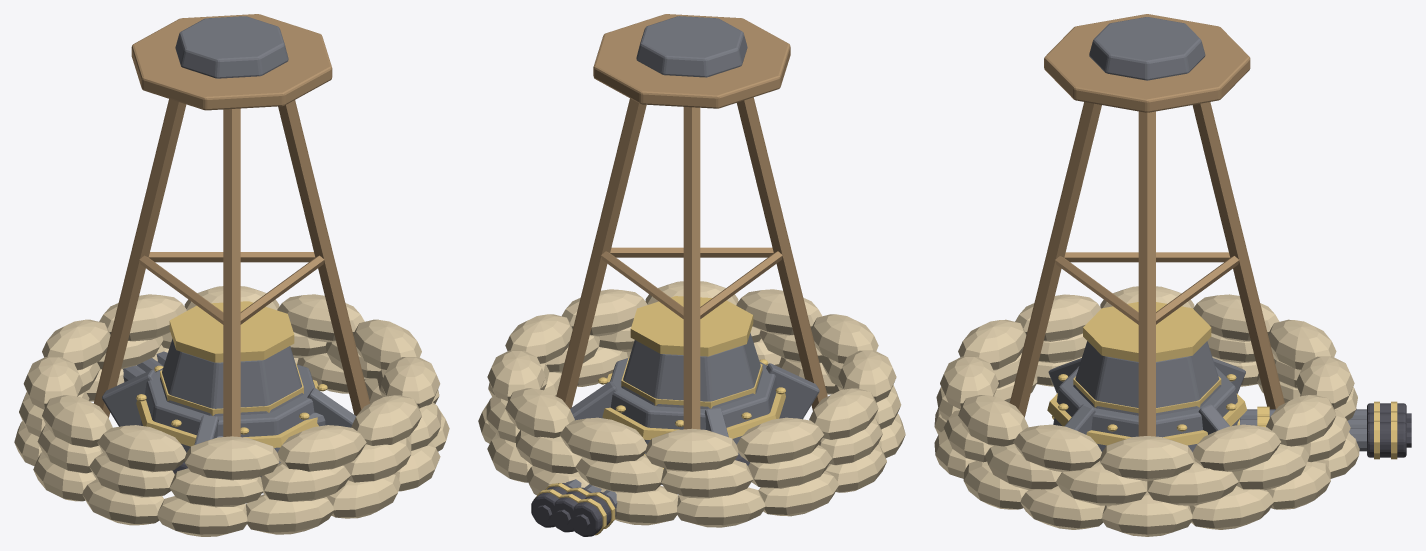
Rendered from iron_bastion.glb.
The picture shows the model from 3 angles, left to right: view 1: azimuth 30°, elevation 25°; view 2: azimuth 150°, elevation 25°; view 3: azimuth 270°, elevation 25°; orthographic projection.
Visible parts, largest first — view 1: Sandbags, Tripod, Base; view 2: Sandbags, Tripod, Base, BarrelL, BarrelR, Barrel; view 3: Sandbags, Tripod, Base, BarrelR, BarrelL, Barrel.
Boxes of the visible parts, <box> form: Sandbags: <box>14,286,449,536</box>; Tripod: <box>93,14,369,436</box>; Base: <box>102,301,356,493</box>; Sandbags: <box>478,281,905,527</box>; Tripod: <box>556,14,827,429</box>; Base: <box>570,296,819,484</box>; BarrelL: <box>570,468,663,536</box>; BarrelR: <box>531,479,581,527</box>; Barrel: <box>551,453,645,532</box>; Sandbags: <box>934,286,1359,536</box>; Tripod: <box>1009,14,1284,491</box>; Base: <box>1048,302,1245,434</box>; BarrelR: <box>1235,420,1411,459</box>; BarrelL: <box>1240,401,1411,422</box>; Barrel: <box>1237,411,1411,431</box>.
Size of the model in its own units: 1.76 by 1.87 by 1.93.
